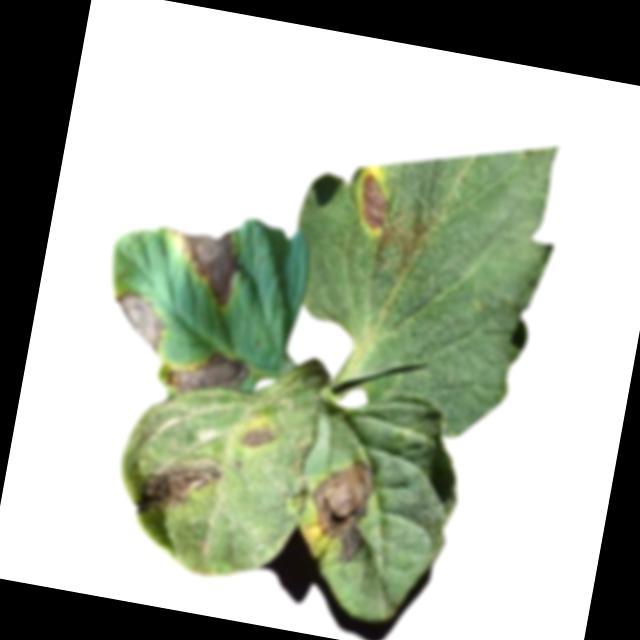Early_blight: (300, 449, 384, 565), (165, 219, 247, 307), (134, 445, 225, 524), (162, 338, 253, 402), (105, 285, 171, 354), (351, 168, 395, 235), (242, 418, 278, 453)
